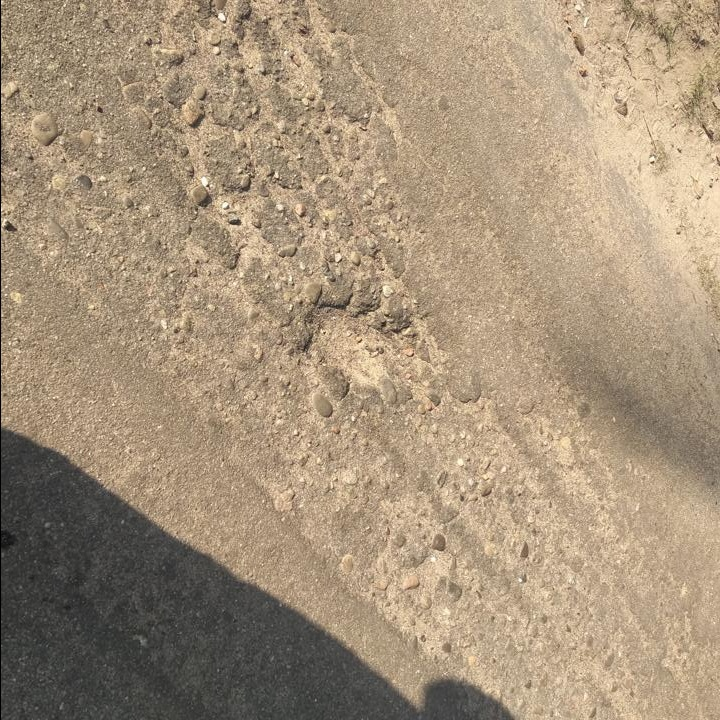pothole: (299, 294, 406, 385)
